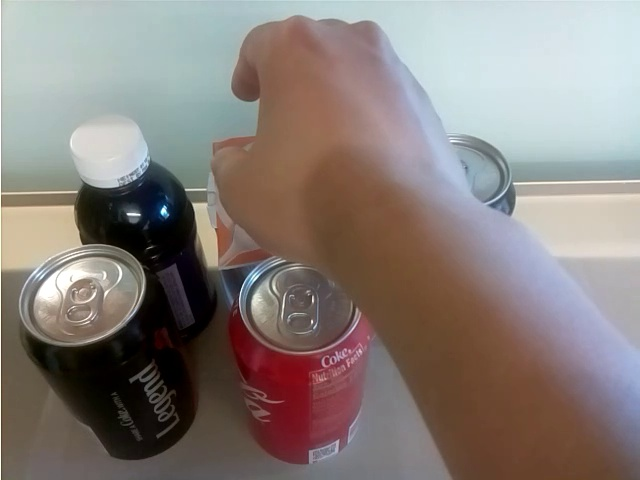cocacola: (226, 248, 377, 469)
cocacola-zero: (15, 245, 200, 461), (440, 133, 525, 216)
hand: (208, 16, 471, 271)
juice: (61, 111, 222, 346)
